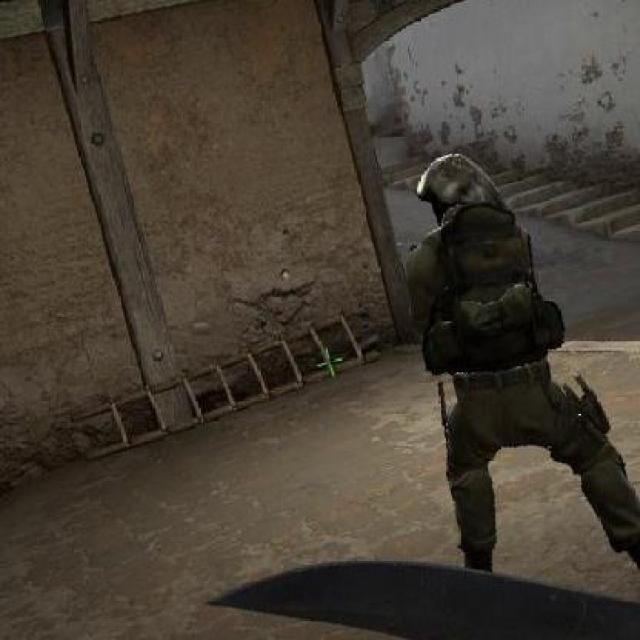CT-Body: (409, 157, 489, 225)
CT-Head: (390, 145, 638, 572)
